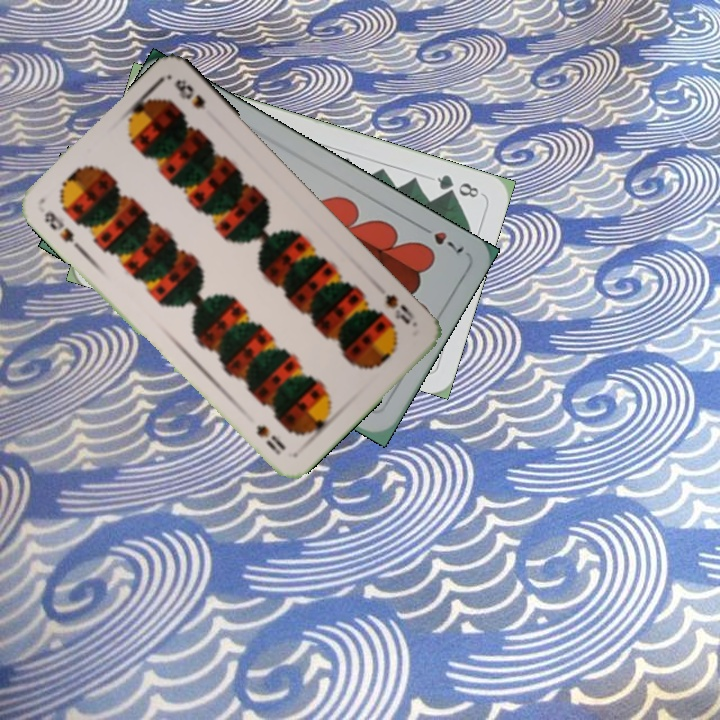G8: (432, 170, 482, 201)
H7: (414, 220, 467, 256)
S8: (40, 207, 77, 245), (381, 290, 417, 327)
